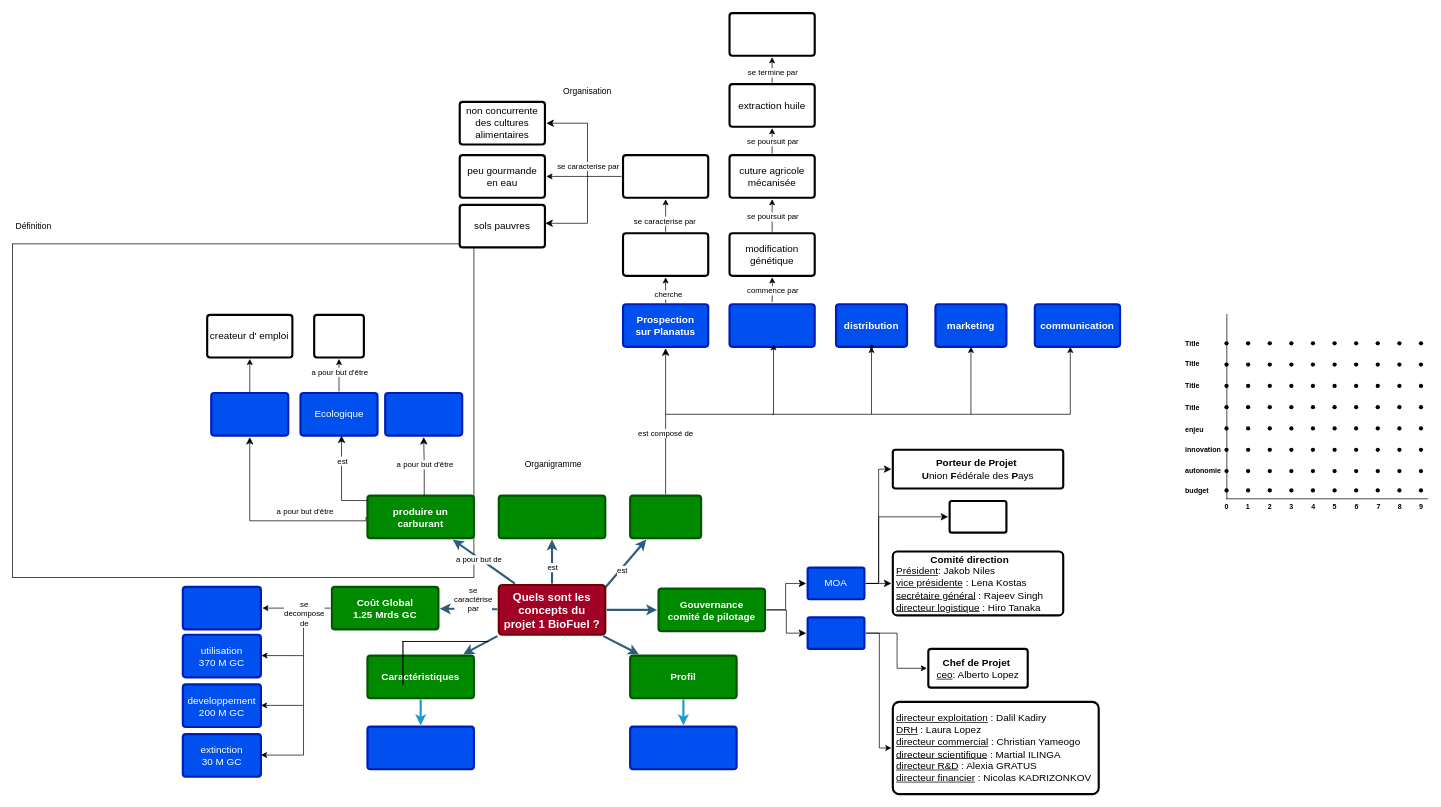
Image size: 1441x807. Some labels were removed from this diagram. The shapes that lost their labels are listed below. From the top down, each one's centre as x and y in pixels, then its label:
the point at 771,34: conversion en bio carburant
the point at 665,176: robustesse
the point at 665,254: une plante : Ignifolia Energia
the point at 339,335: local
the point at 771,325: Developpement
the point at 249,414: Social
the point at 423,414: Disponibilité universelle
the point at 551,516: un projet sorti
the point at 665,516: une organisation
the point at 977,516: AMOA Tara Flint
the point at 221,607: investissement 650 M GC
the point at 835,633: MOE
the point at 683,747: enjeu innovation autonomie budget
